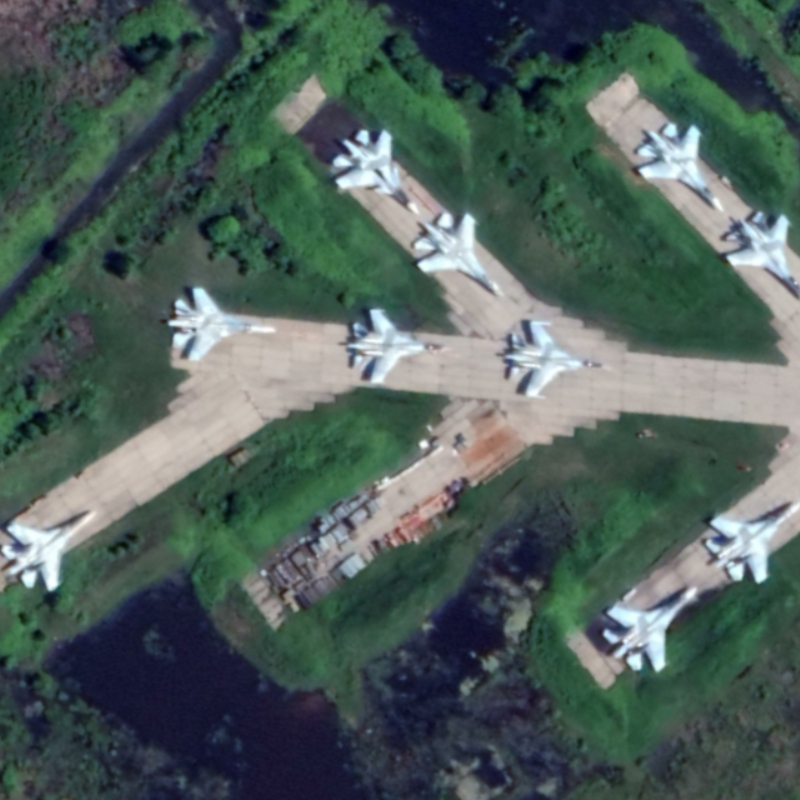A1: (500, 317, 616, 401), (164, 284, 280, 363), (600, 585, 699, 677), (341, 305, 453, 385), (632, 120, 727, 214), (409, 209, 508, 299), (701, 499, 800, 587), (1, 507, 96, 593), (720, 207, 800, 305)
A19: (330, 127, 424, 216)
